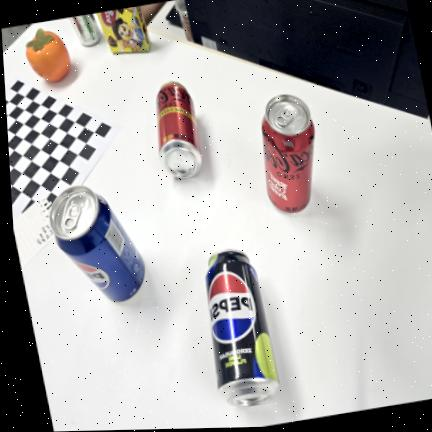can_coke_decaf: (155, 81, 201, 178)
can_coke_zero: (262, 94, 314, 212)
can_pepsi: (49, 185, 145, 301)
can_pepsi_zero: (205, 249, 279, 405)
